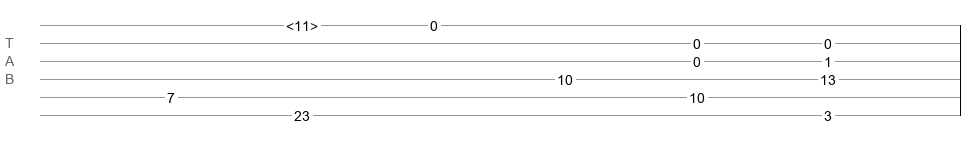0: (430, 18, 438, 28), (693, 36, 701, 46), (693, 54, 701, 64), (824, 36, 832, 46)
1: (824, 54, 832, 64)
10: (557, 72, 573, 82), (689, 90, 705, 100)
13: (820, 72, 836, 82)
23: (294, 108, 310, 118)
3: (824, 108, 832, 118)
7: (167, 90, 175, 100)
harmonic: (286, 18, 318, 28)
